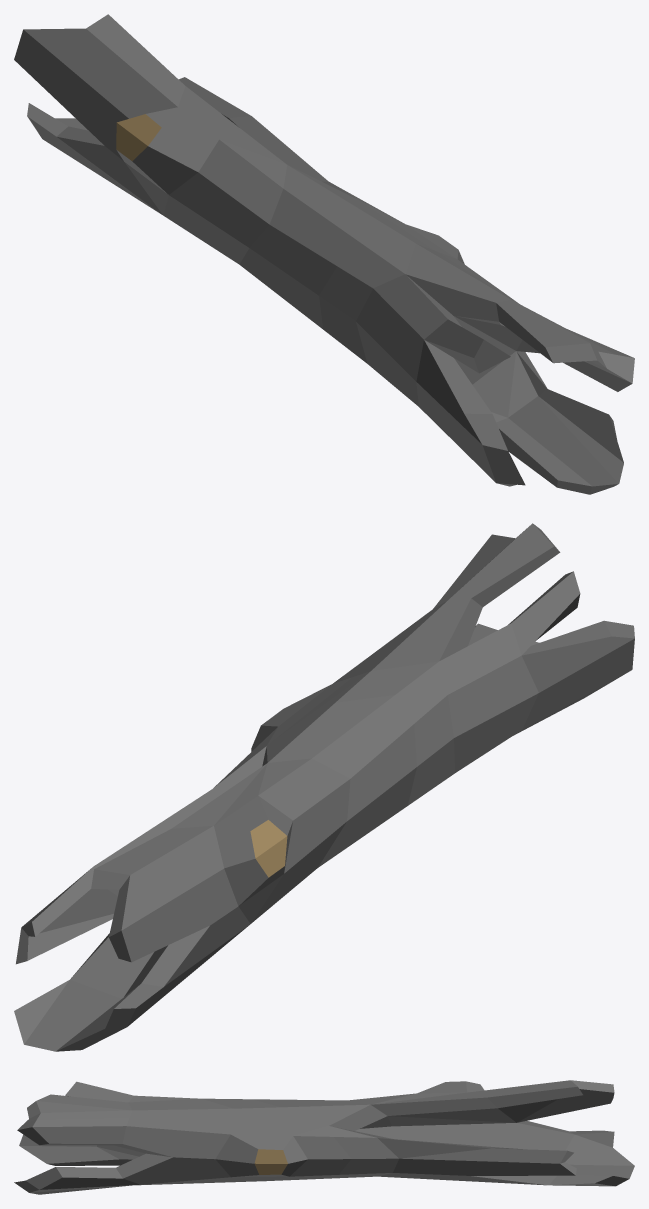
The model's file is SM_Gen_Env_Log_02.glb.
3 views of the same model, one above another, from view 1: azimuth 30°, elevation 25°; view 2: azimuth 150°, elevation 25°; view 3: azimuth 270°, elevation 25° (orthographic). The views are drawn at different scales.
Visible parts, largest first — view 1: SM_Gen_Env_Log_02; view 2: SM_Gen_Env_Log_02; view 3: SM_Gen_Env_Log_02.
Boxes of the visible parts, x1,y1,x2,y2 form: SM_Gen_Env_Log_02: (14,14,634,494); SM_Gen_Env_Log_02: (14,523,634,1051); SM_Gen_Env_Log_02: (14,1080,634,1194).
Size of the model in its own units: 0.7364 by 0.6726 by 3.86.
1 material, 1 textured.
